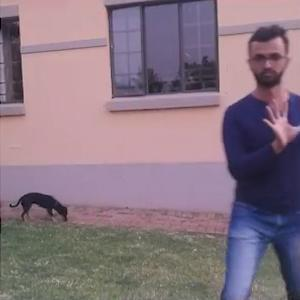follow_hand: (254, 90, 299, 148)
